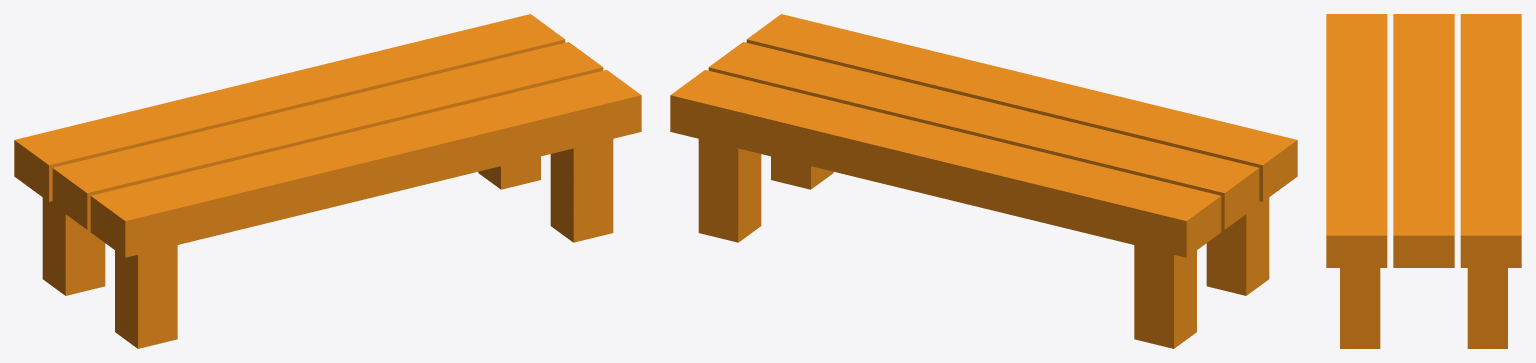
The model's file is table.glb.
3 renders of one model, left to right at view 1: azimuth 30°, elevation 25°; view 2: azimuth 150°, elevation 25°; view 3: azimuth 270°, elevation 25°, orthographic. The views are drawn at different scales.
Visible parts, largest first — view 1: table; view 2: table; view 3: table.
Part boxes in pixels (x1,y1,x2,y2): table: [14, 14, 641, 348]; table: [670, 14, 1297, 348]; table: [1326, 14, 1521, 348].
Bounding box in the file's own units: 2.21 × 0.5676 × 0.8241.
